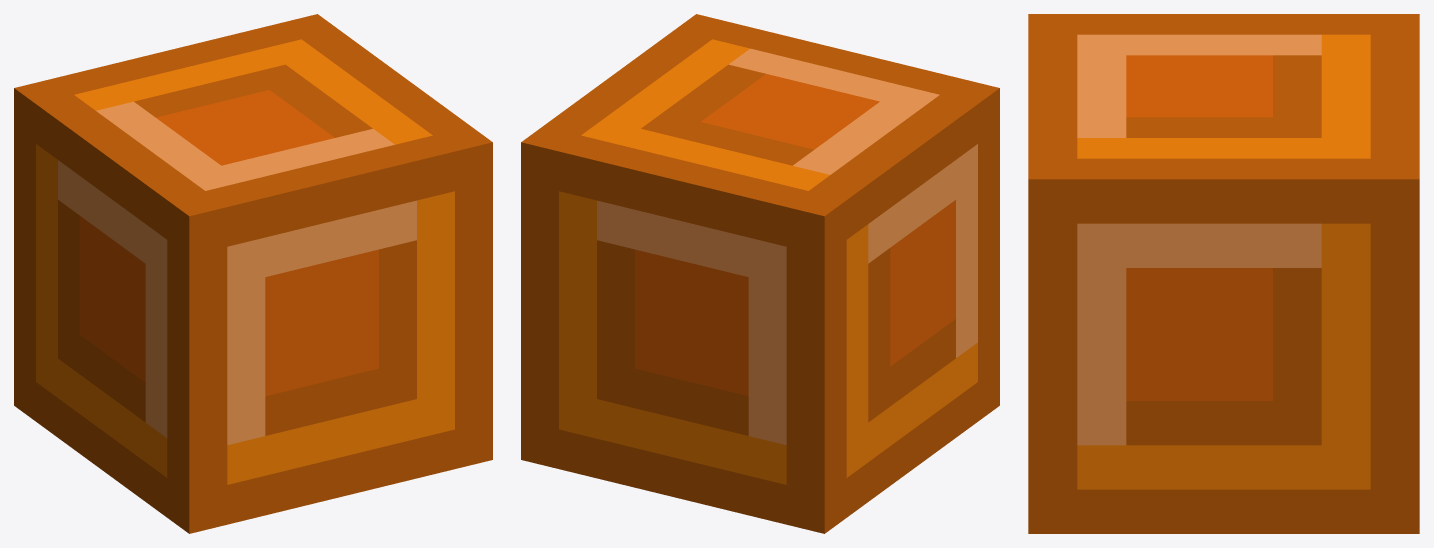
The model's file is cube_orange.obj.
3 renders of one model, left to right at view 1: azimuth 30°, elevation 25°; view 2: azimuth 150°, elevation 25°; view 3: azimuth 270°, elevation 25°, orthographic. The views are drawn at different scales.
Size of the model in its own units: 0.8 by 0.8 by 0.8.
Materials: 1 (1 with a texture image).
